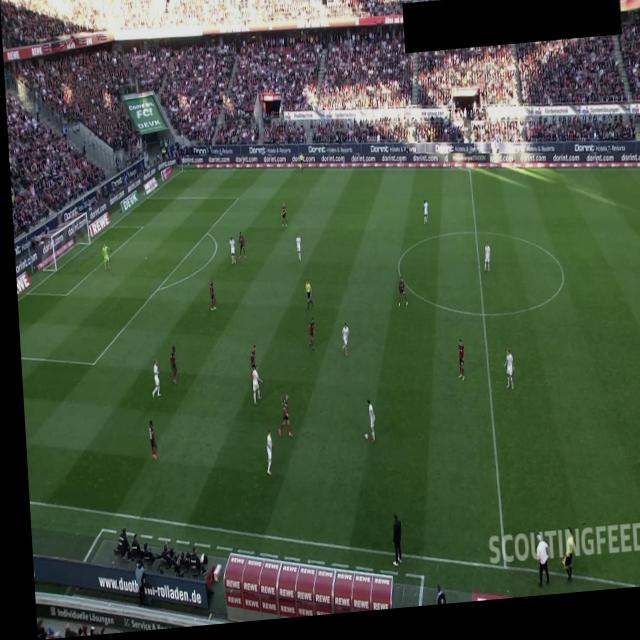goalkeeper: (98, 243, 109, 272)
player: (271, 398, 288, 443), (243, 367, 260, 410), (498, 357, 510, 399), (145, 360, 157, 401), (259, 433, 269, 480), (361, 405, 371, 449), (452, 346, 462, 390), (143, 421, 153, 464), (392, 284, 404, 315), (336, 328, 346, 363), (303, 322, 312, 357), (165, 349, 173, 388), (479, 250, 488, 282), (234, 234, 243, 264), (205, 282, 213, 314), (226, 239, 233, 269), (292, 238, 299, 266), (278, 207, 285, 233), (245, 349, 252, 374), (419, 207, 426, 232)
referee: (554, 538, 570, 591), (300, 283, 310, 316), (296, 156, 303, 177)
